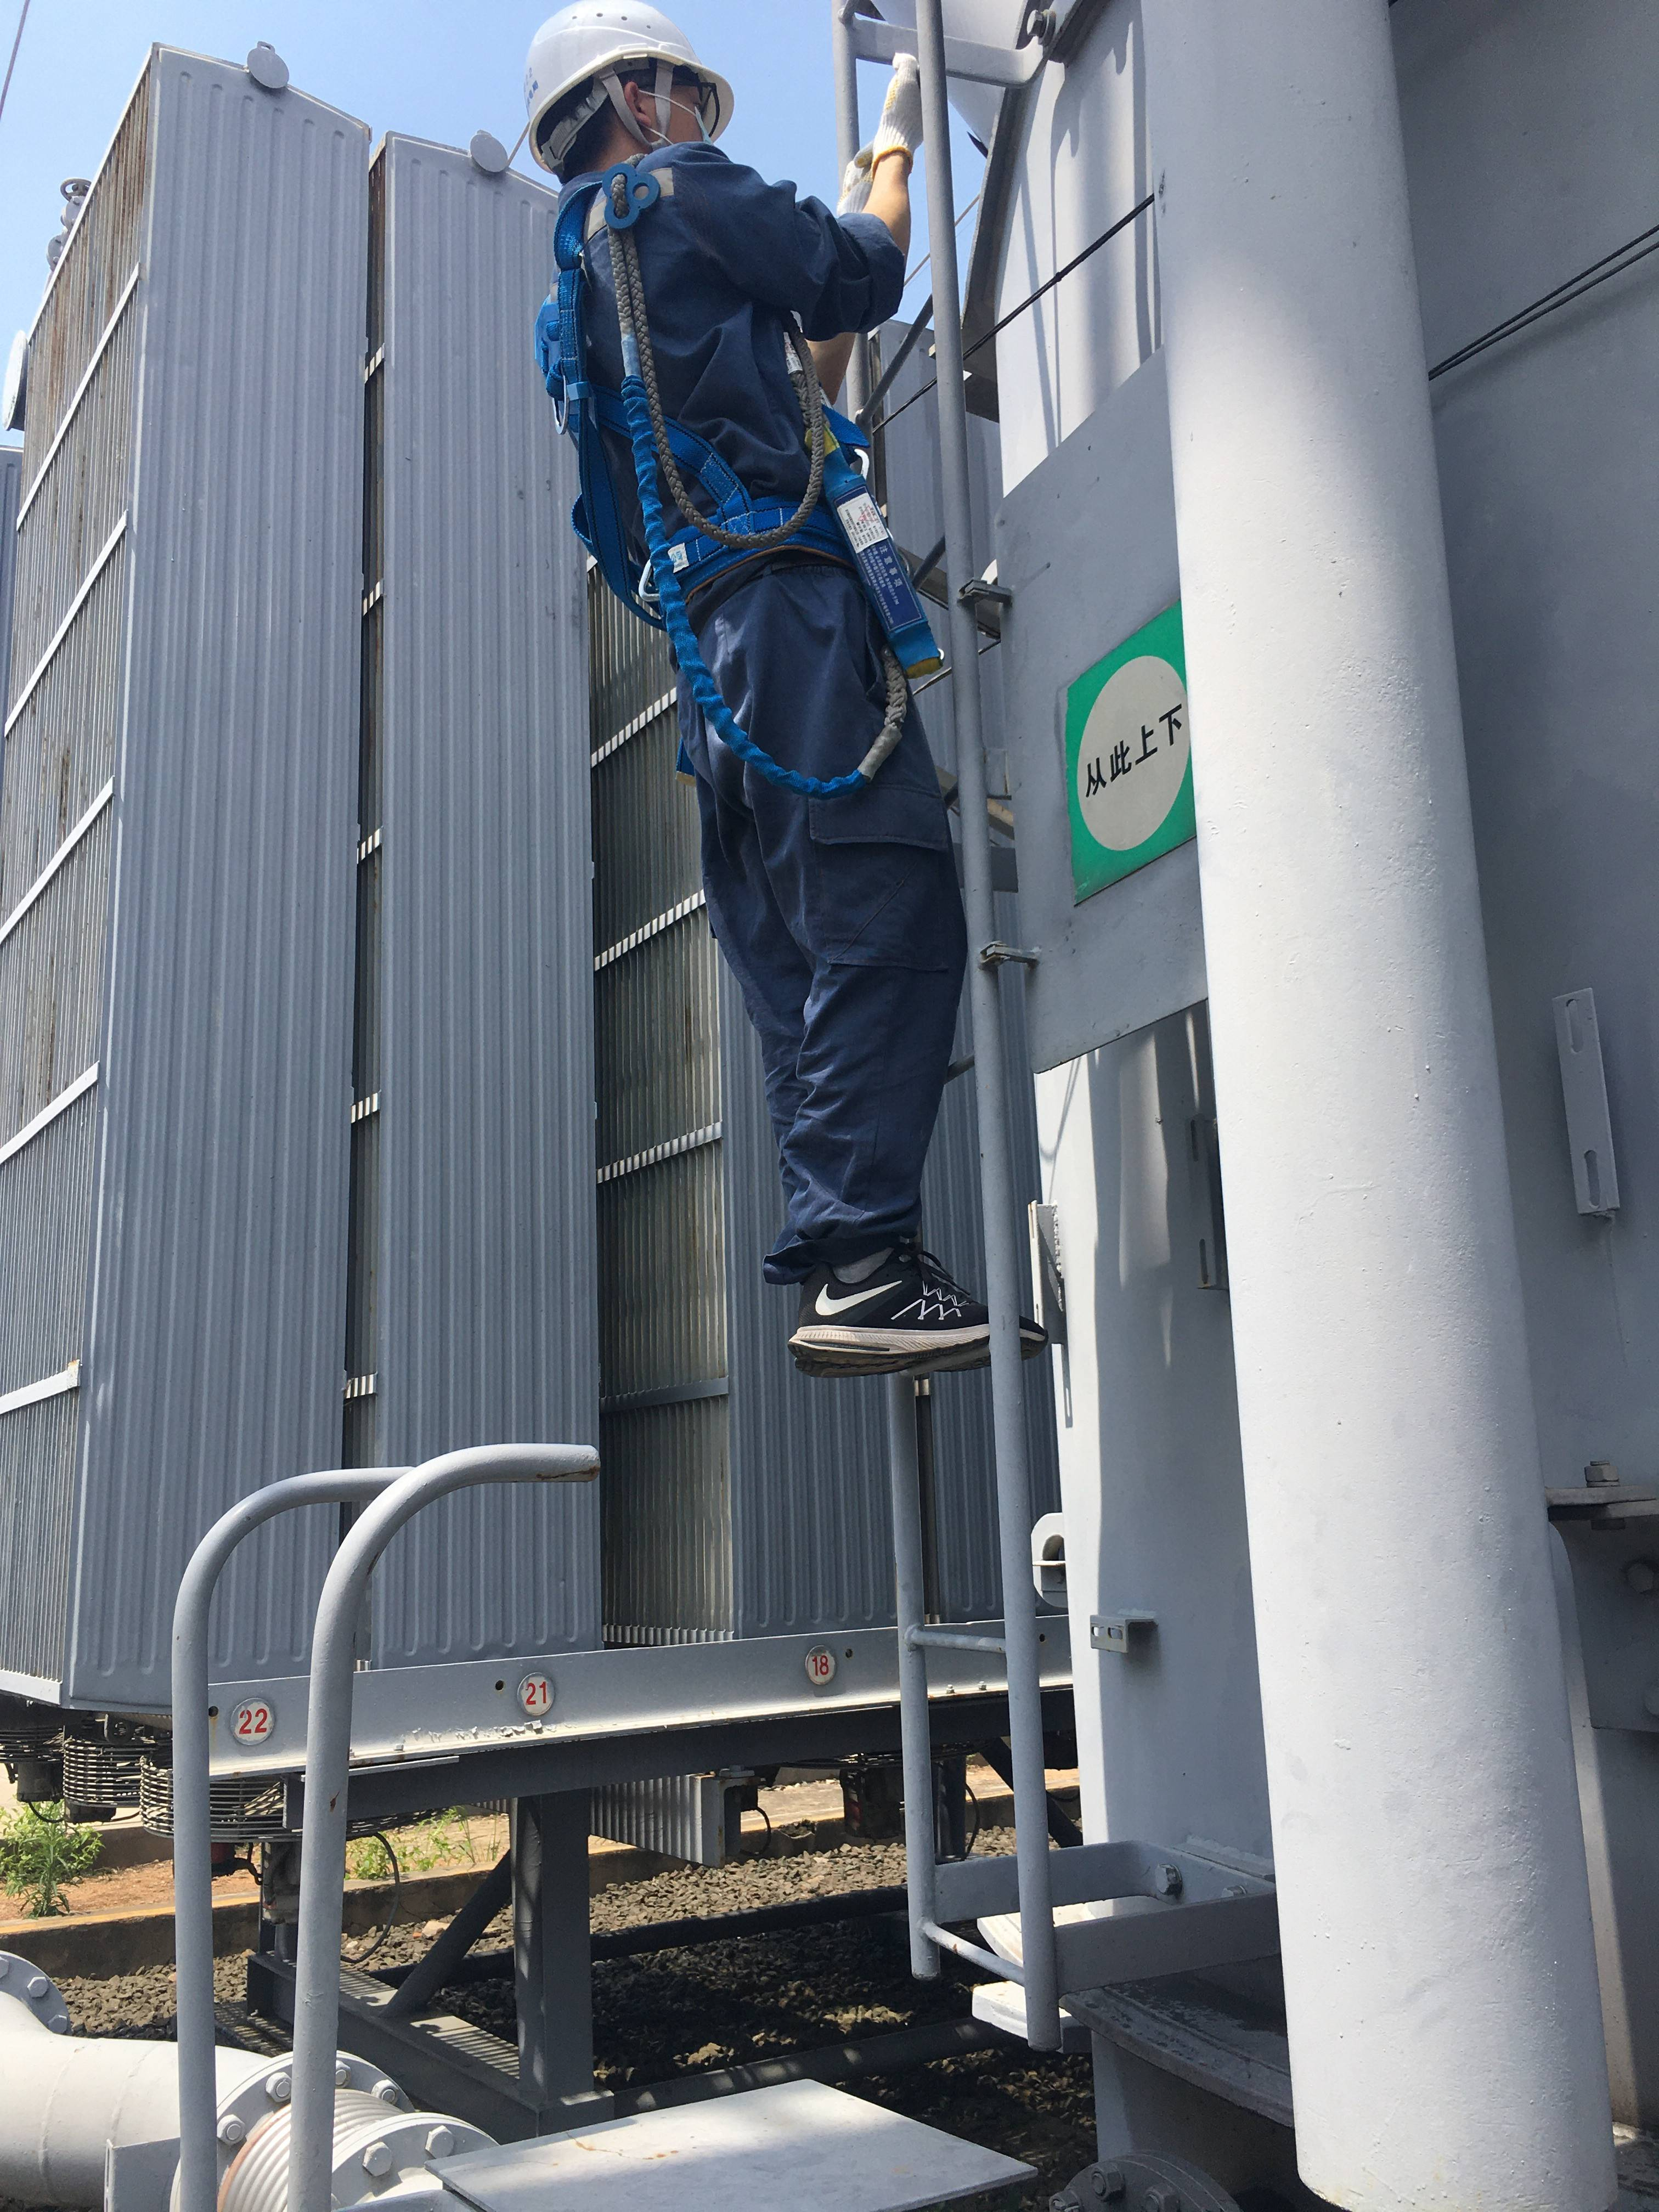downsuit: (678, 577, 974, 1273)
upsuit: (545, 131, 904, 575)
wrongtop: (854, 131, 922, 270)
